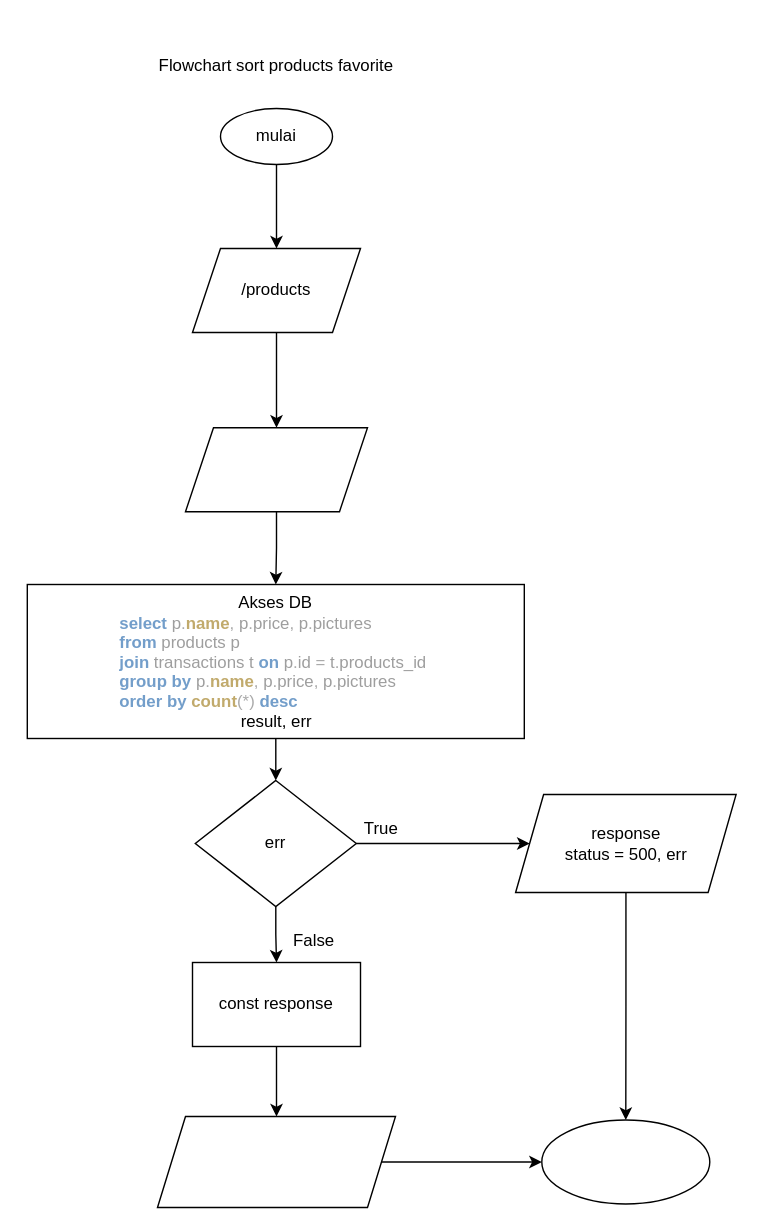
The diagram is 762 pixels wide and 1232 high, and some of its shapes have lost their labels. Each missing label, with the box of its shape:
localhost:8000/ favorite method get: (184, 426, 368, 512)
response = total: resul.rowCount data: result.rows: (156, 1115, 396, 1208)
selesai: (540, 1119, 710, 1204)
